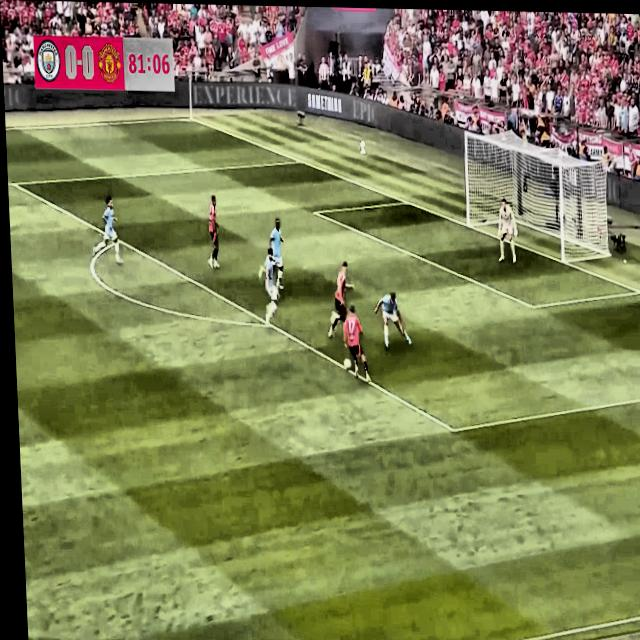ball: (340, 352, 355, 379)
goal_keeper: (491, 193, 524, 270)
players: (320, 252, 357, 349), (89, 181, 127, 266), (373, 284, 416, 352), (341, 299, 372, 388), (256, 216, 287, 303), (256, 244, 285, 331), (202, 189, 228, 279)
